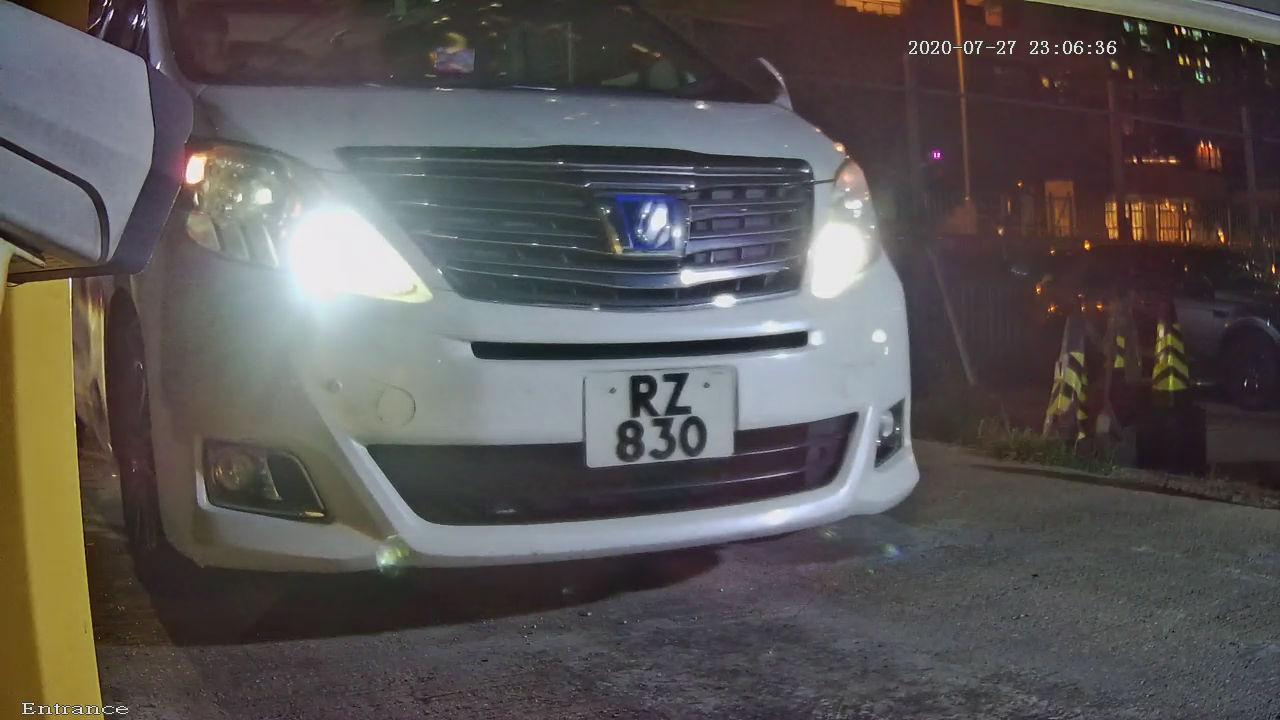privatecar: (75, 1, 989, 637)
